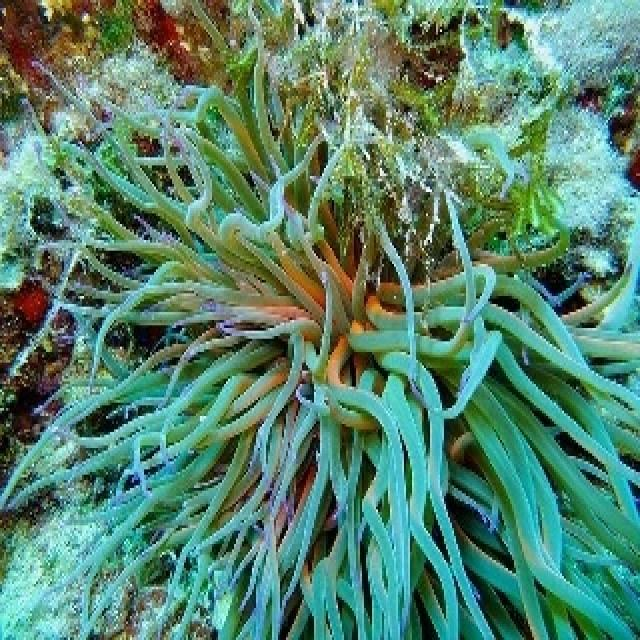reefs: (1, 1, 638, 637)
